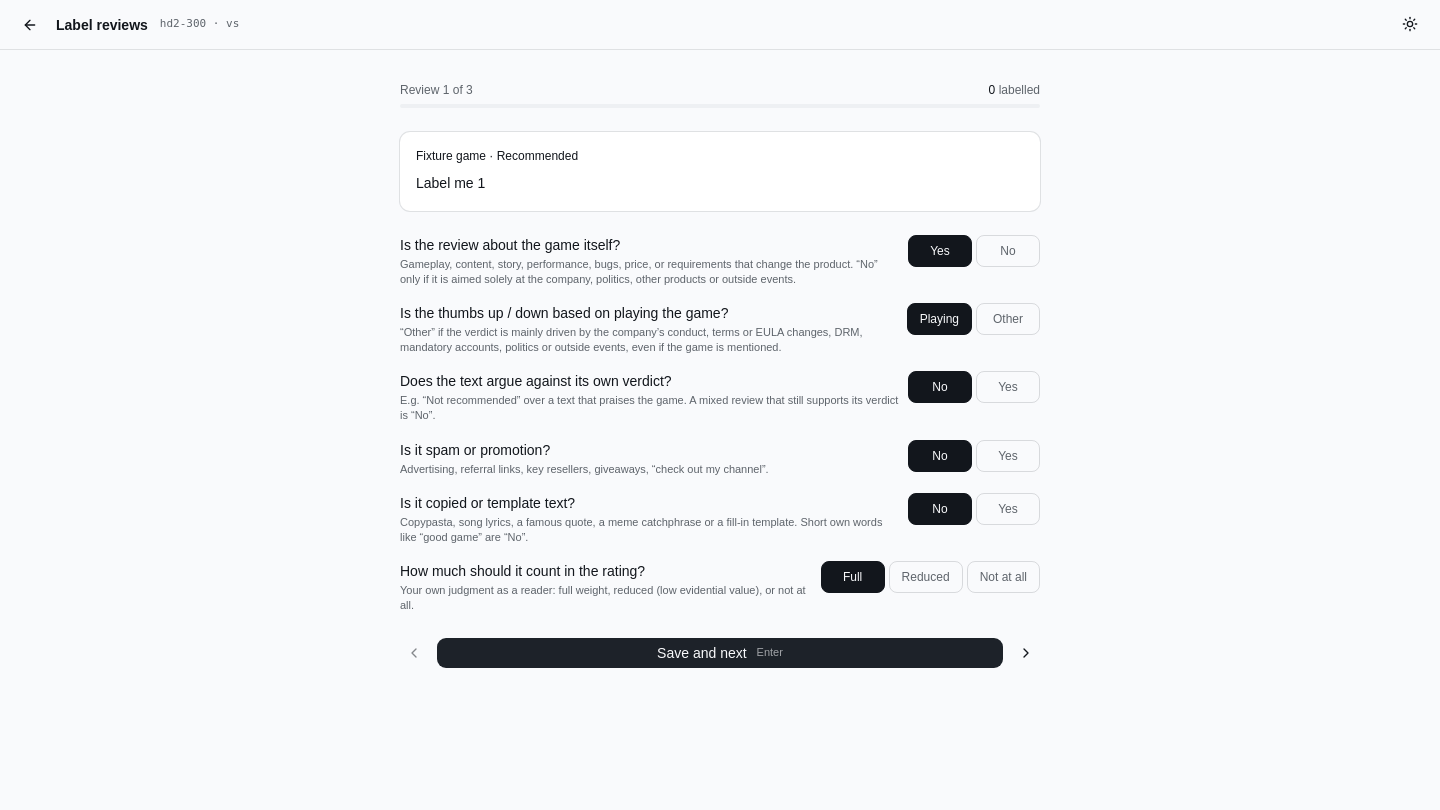
Test: labels blind: no engine output, saves the answers and moves on
Expected: the text "Label me 1" is shown, x1=416 y1=175 x2=485 y2=191
Click the radio button labelled "No" in the row of "Is the review about the game itself?".
click(1008, 251)  # box x1=976 y1=235 x2=1040 y2=267
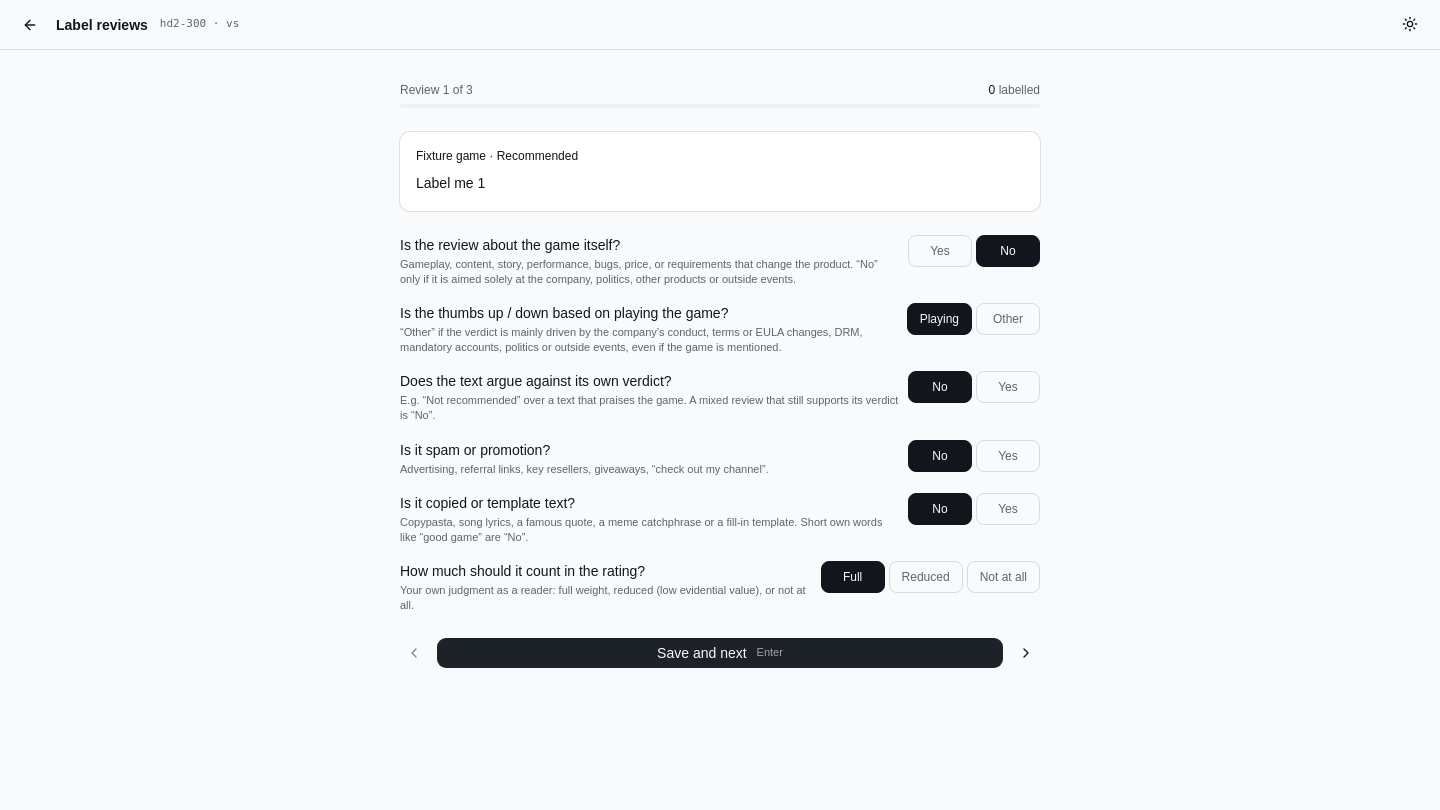
Click the radio button labelled "Reduced".
click(926, 577)  # box x1=889 y1=561 x2=963 y2=593
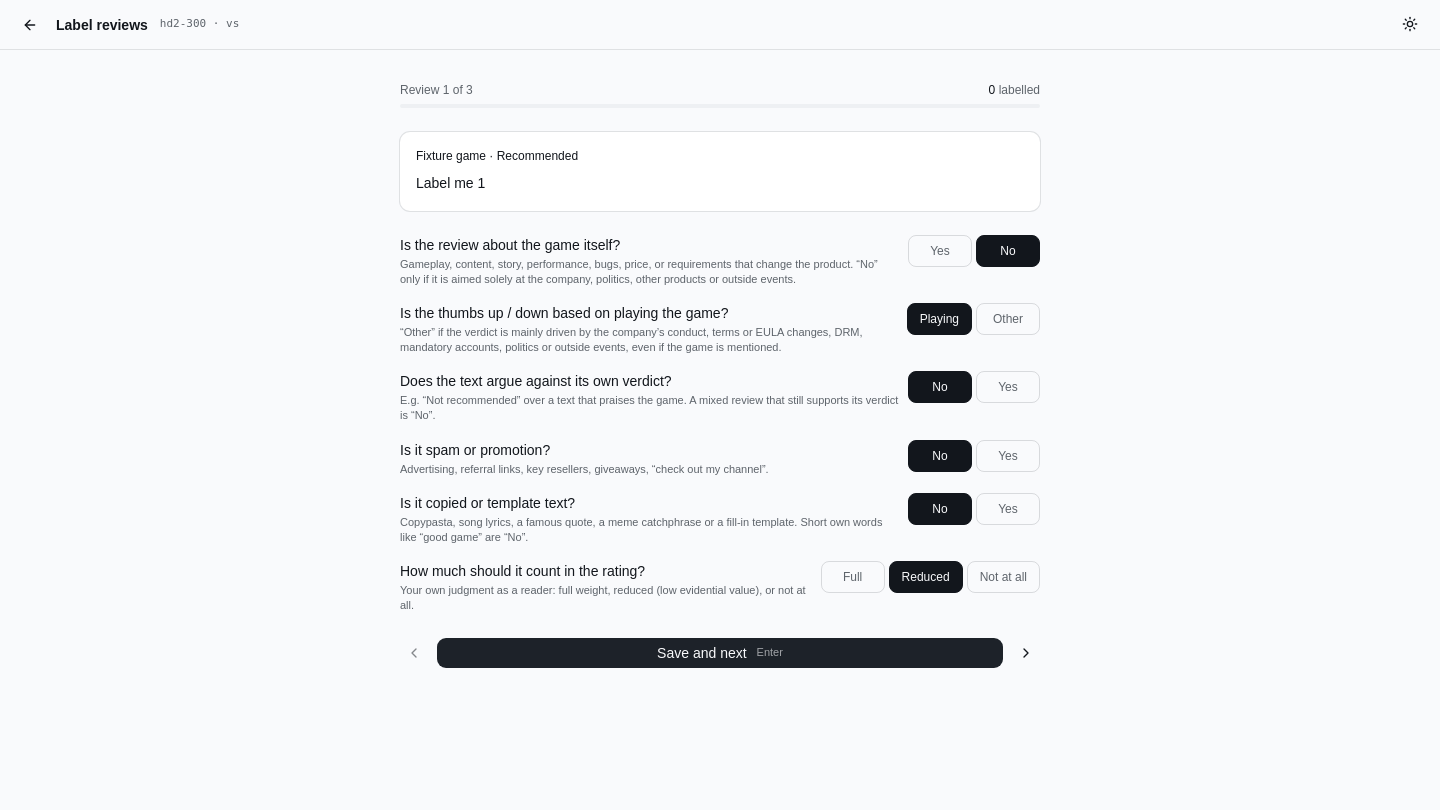
Click the button "Save and next Enter".
click(720, 653)  # box x1=436 y1=637 x2=1004 y2=669
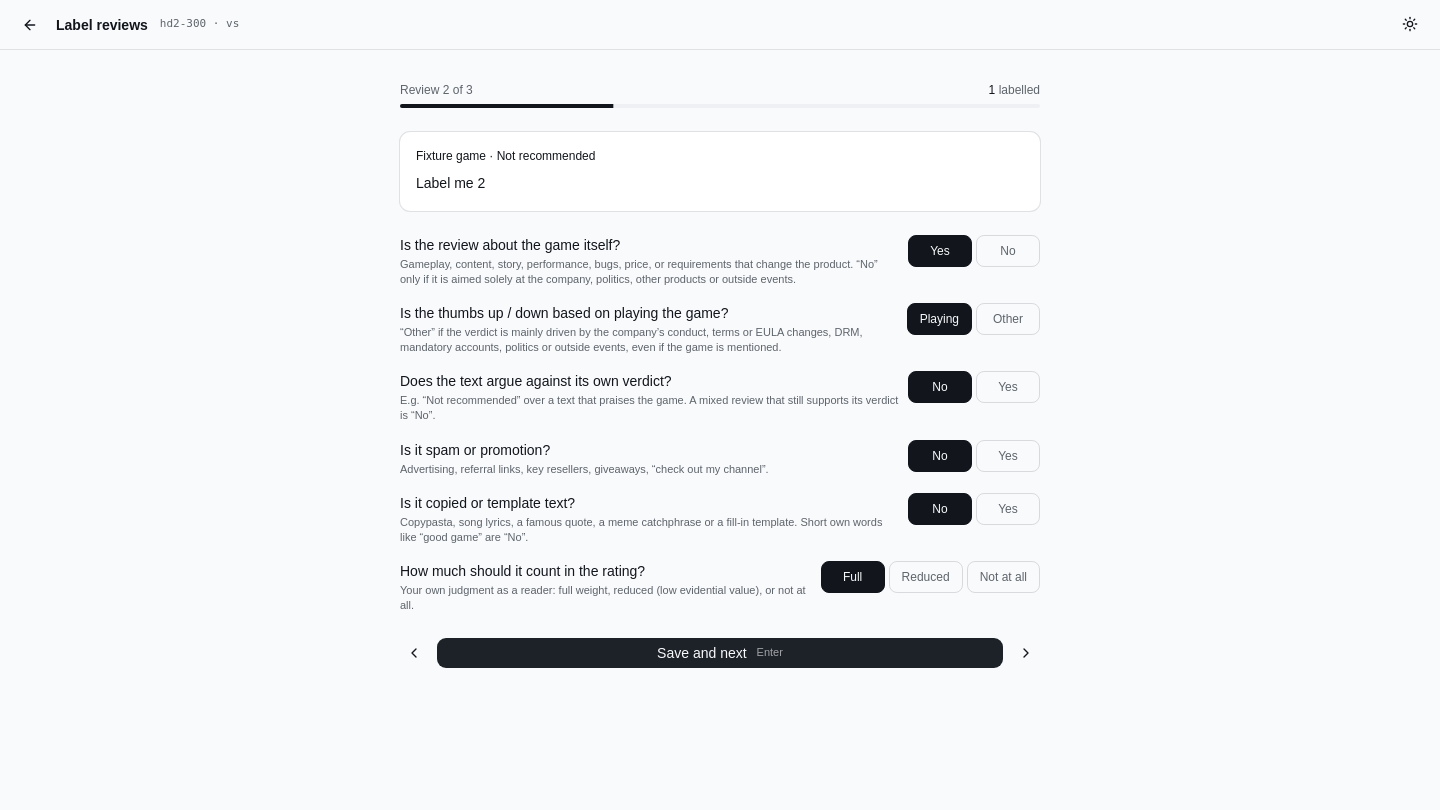
Result: the text "Label me 2" is shown at x1=416 y1=175 x2=485 y2=191
